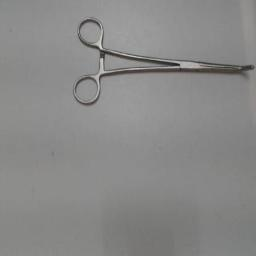Lahey Forceps: (70, 13, 254, 109)
